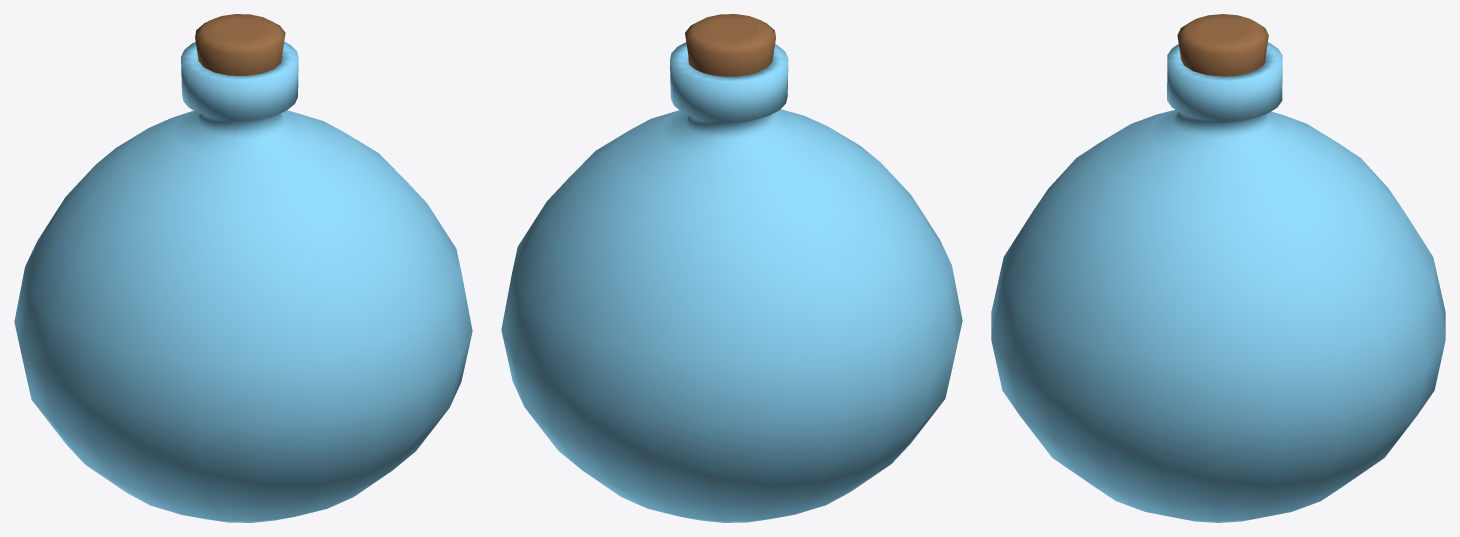
The model's file is FlaskRound.fbx.
3 renders of one model, left to right at view 1: azimuth 30°, elevation 25°; view 2: azimuth 150°, elevation 25°; view 3: azimuth 270°, elevation 25°, orthographic.
Visible parts, largest first — view 1: FlaskRound; view 2: FlaskRound; view 3: FlaskRound.
Boxes of the visible parts, box(x1,y1,x2,y2) form: FlaskRound: box(14, 14, 472, 522); FlaskRound: box(501, 14, 962, 522); FlaskRound: box(991, 14, 1445, 522).
Size of the model in its own units: 43.42 by 48.77 by 42.94.
